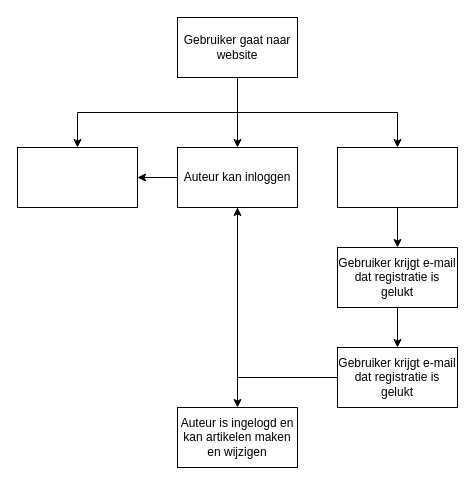
The diagram is 475 pixels wide and 485 high, and some of its shapes have lost their labels. The box of each missing label's shape, as (x1, y1, x2, y2) in pixels:
Gebruiker kan registreren als auteur: (336, 146, 458, 208)
Gebruiker ziet nieuwsberichten en kan ze lezen: (16, 146, 138, 208)
